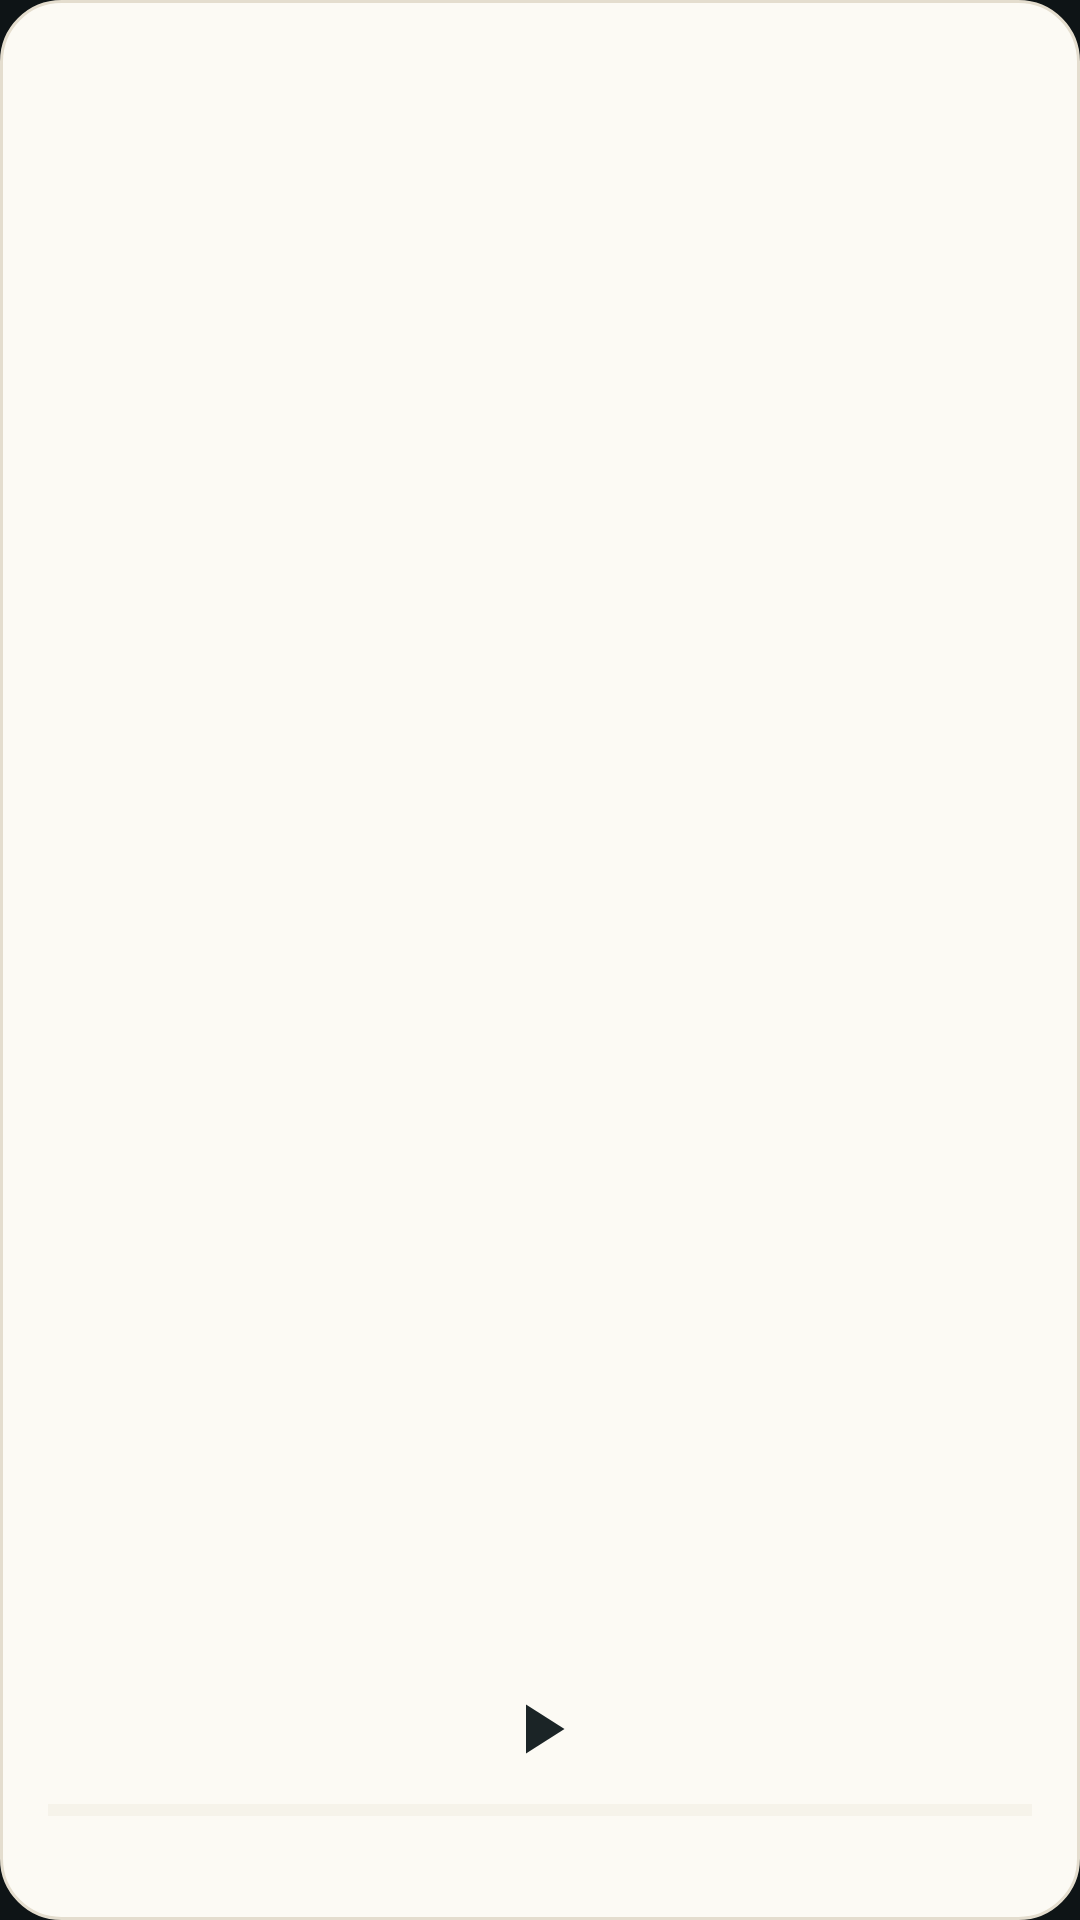

Icons on this 1080×1920 Android screen, each with its box as (x1, y1, x2, y2):
播放: (526, 1704, 564, 1754)
